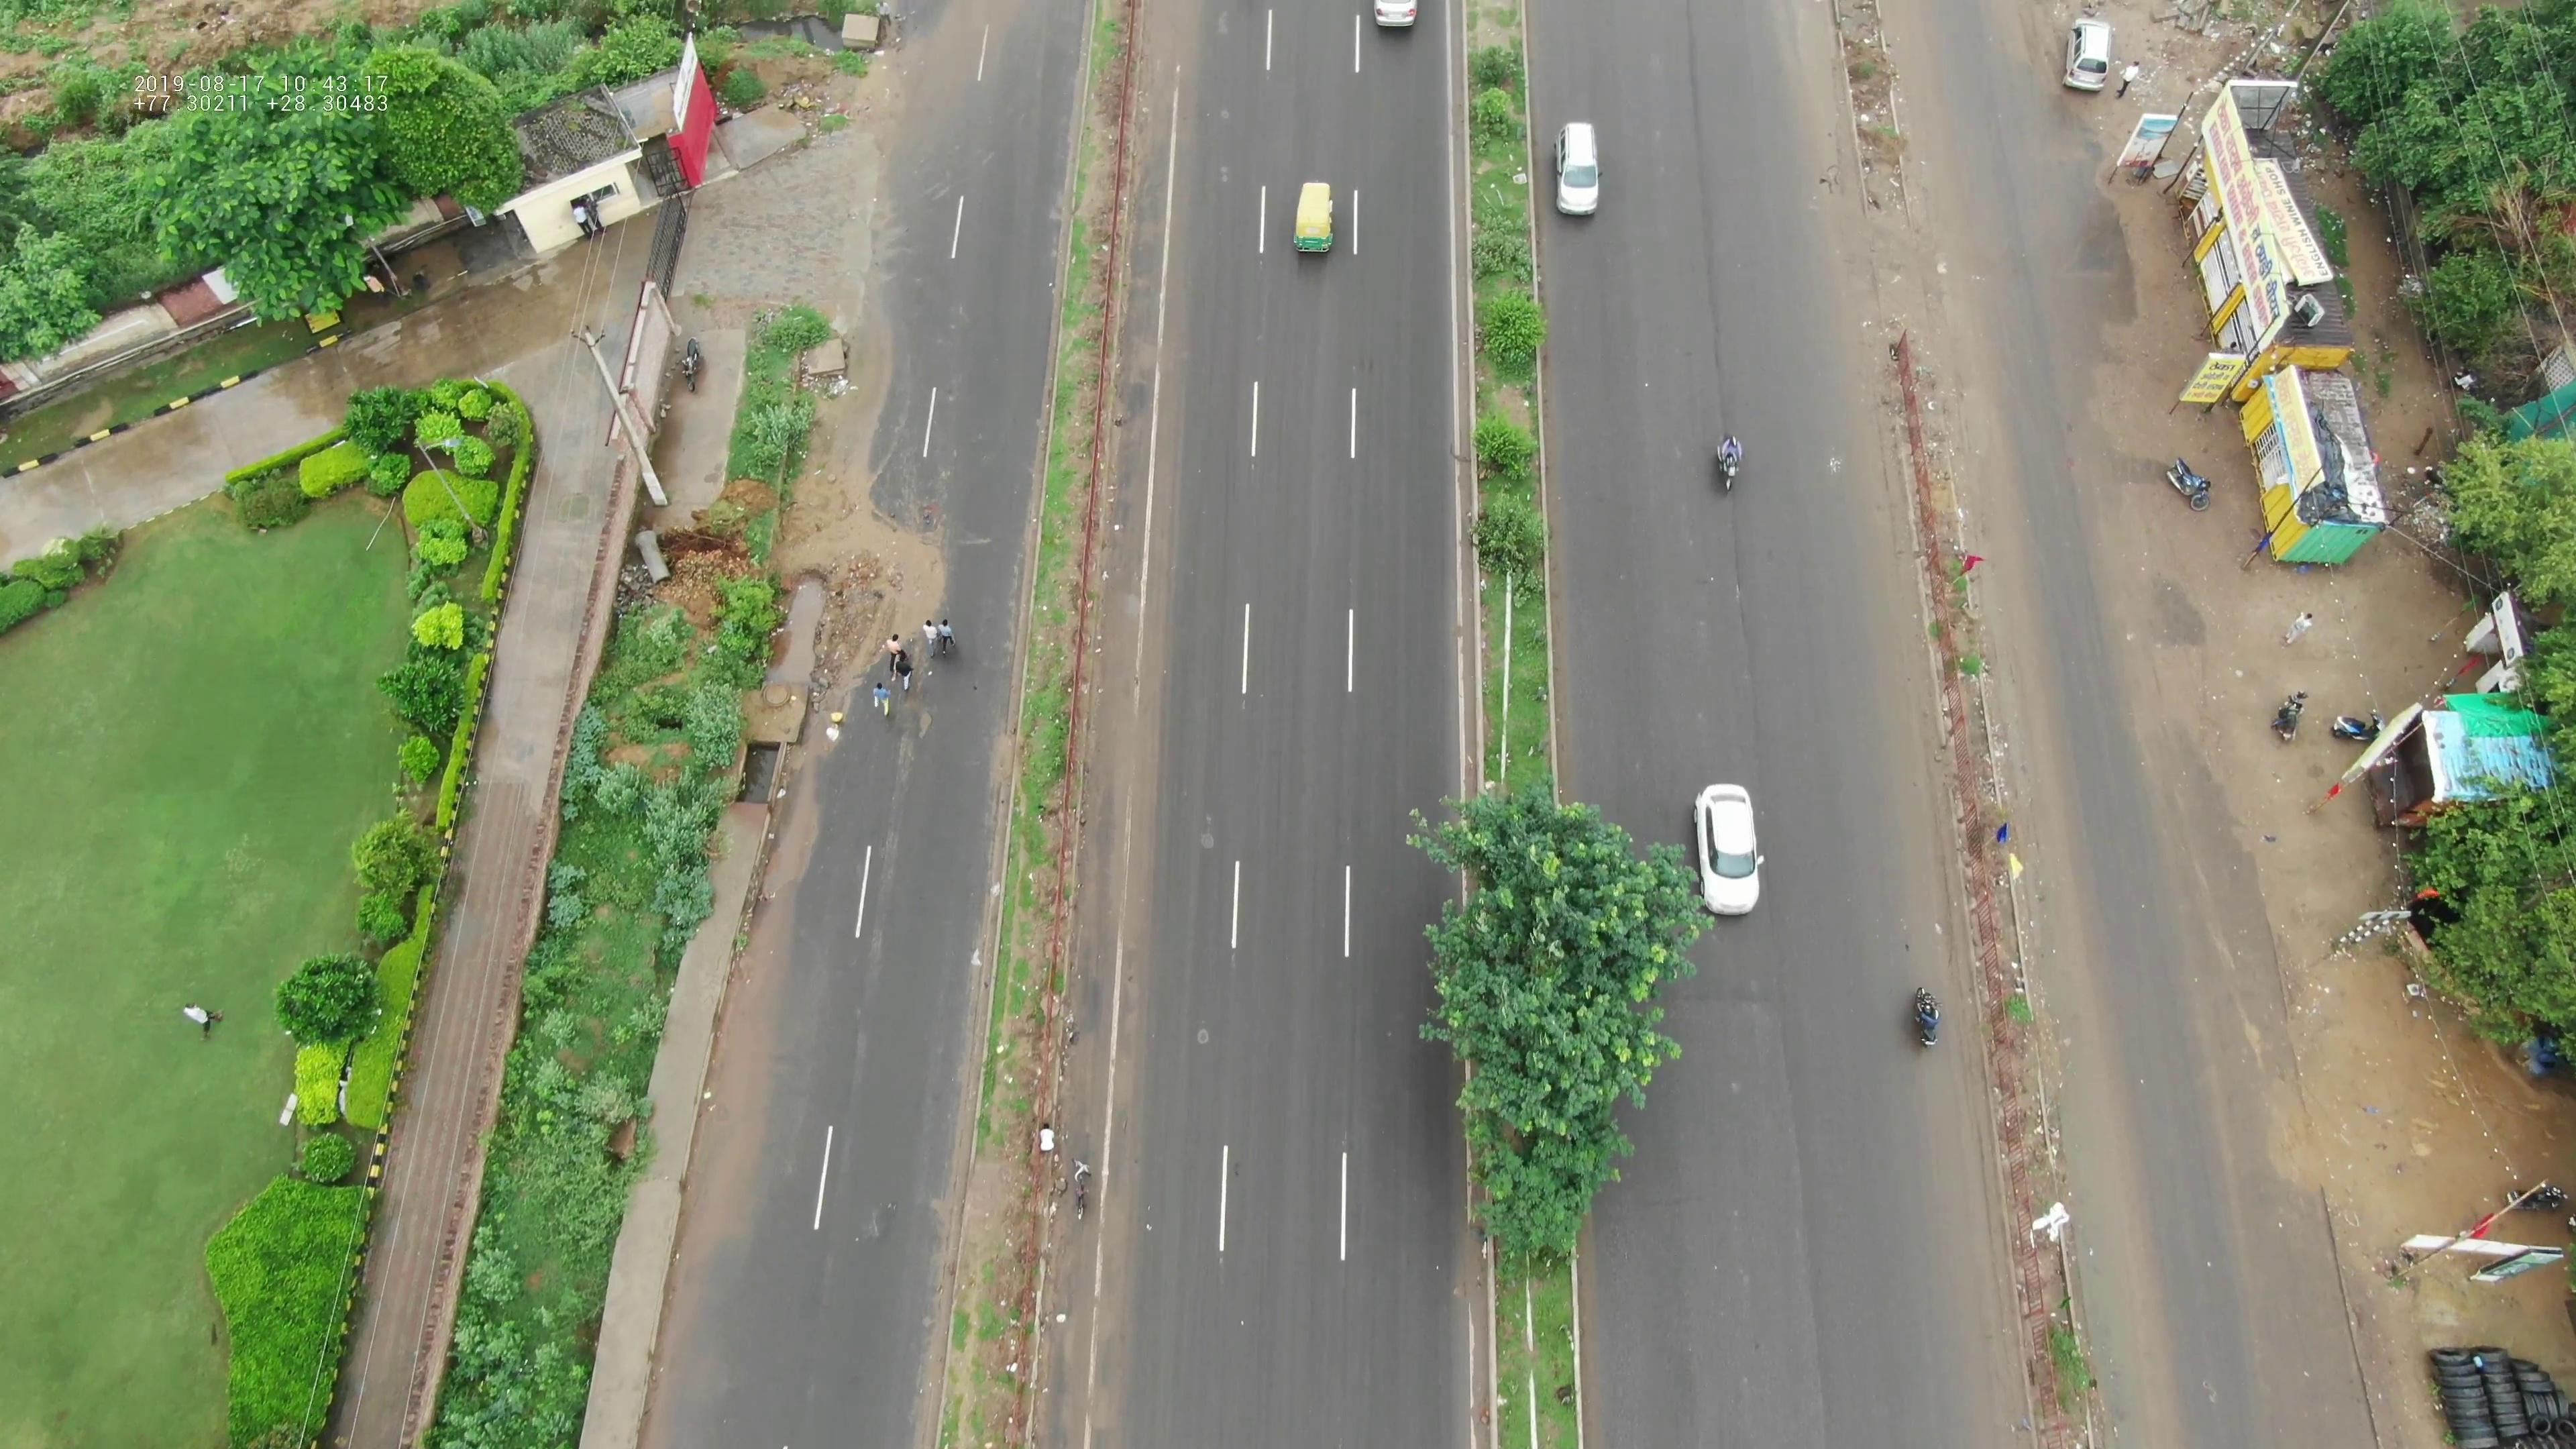Mud_heaps: (817, 522, 941, 671)
Muddy_road: (2077, 1182, 2176, 1428), (1897, 228, 1990, 472), (2026, 847, 2112, 1102), (1978, 518, 2058, 780)
Potholes: (865, 156, 962, 292)
